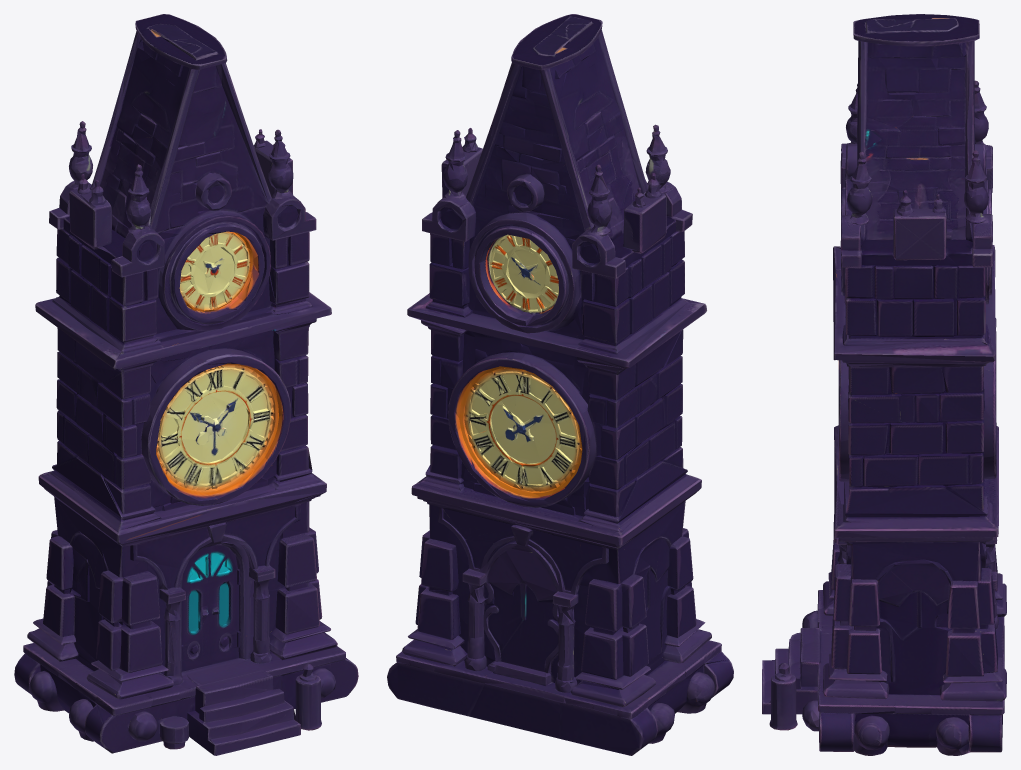
Rendered from hw-clock.glb.
The picture shows the model from 3 angles, left to right: view 1: azimuth 30°, elevation 25°; view 2: azimuth 150°, elevation 25°; view 3: azimuth 270°, elevation 25°; orthographic projection. The views are drawn at different scales.
Size of the model in its own units: 0.8085 by 1.9 by 0.6306.
1 material, 1 textured.
